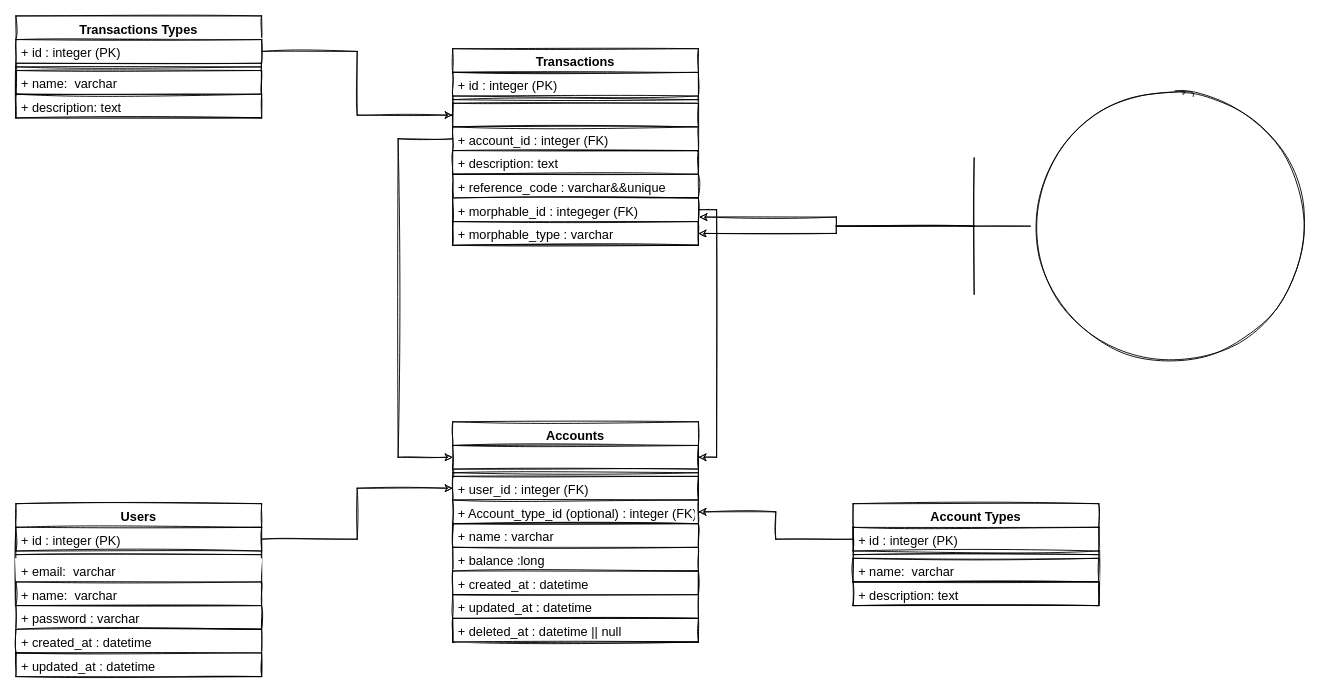
Image size: 1327x695. Some labels were removed from this diagram. The shapes that lost their labels are listed below. From the top down, each one's centre as x and y in pixels, then its label:
the point at 575,114: + transaction_type_id : integer (FK)
the point at 1142,226: Use Polymorphic to assign transactions with different Services
the point at 575,457: + id : integer(PK)
